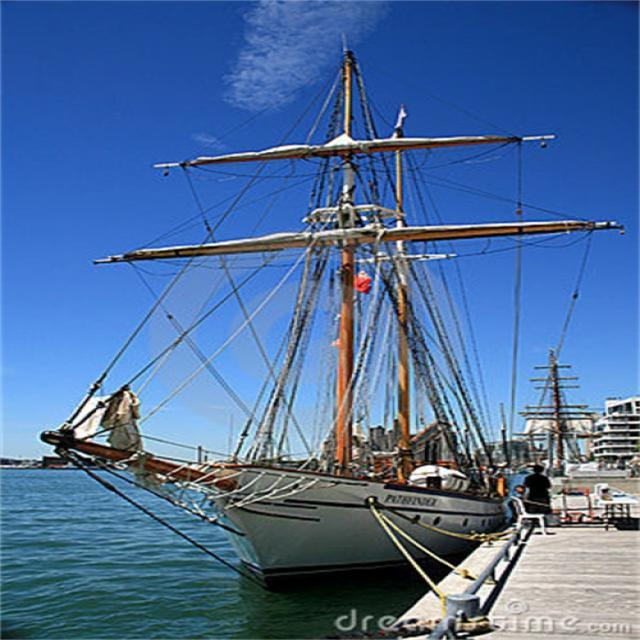Ship: (72, 41, 618, 577)
